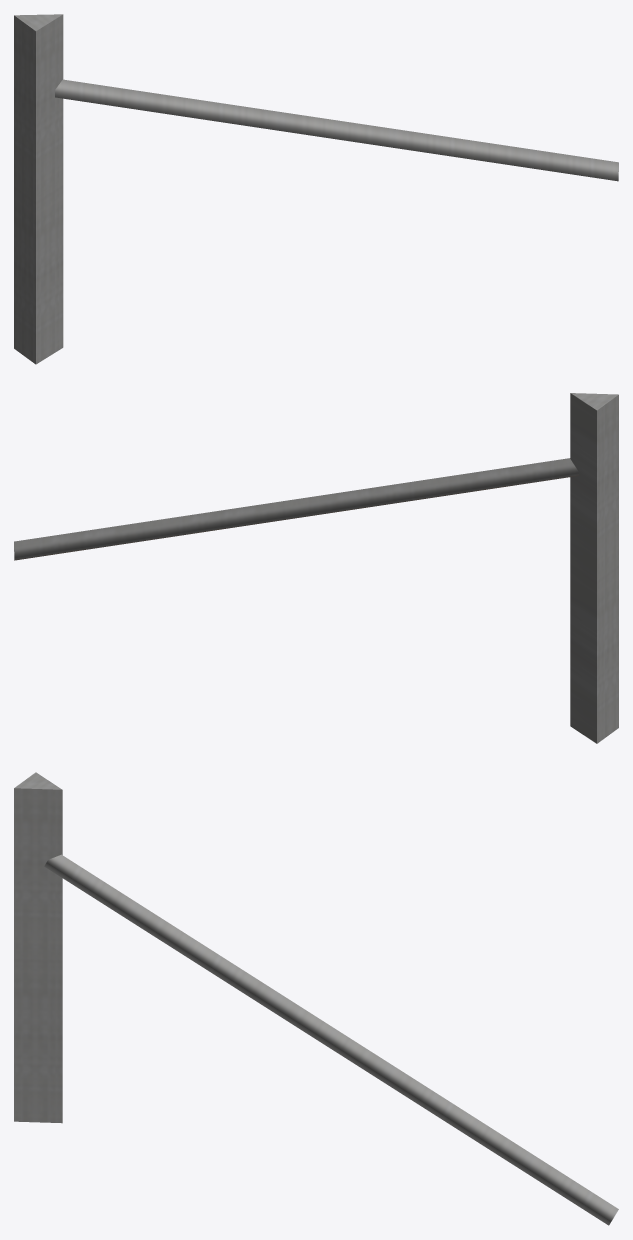
File: fence-corner-steel-start-cbj_LOD02.gltf
3 views of the same model, one above another, from view 1: azimuth 30°, elevation 25°; view 2: azimuth 150°, elevation 25°; view 3: azimuth 330°, elevation 25° (orthographic).
Parts seen in each view (by area): view 1: fence.002; view 2: fence.002; view 3: fence.002.
Part boxes in pixels (x1,y1,x2,y2): fence.002: (14,14,618,364); fence.002: (14,393,618,743); fence.002: (14,772,618,1225).
Size of what is drawn, in the model's own units: 3.36 by 1.8 by 0.2148.
